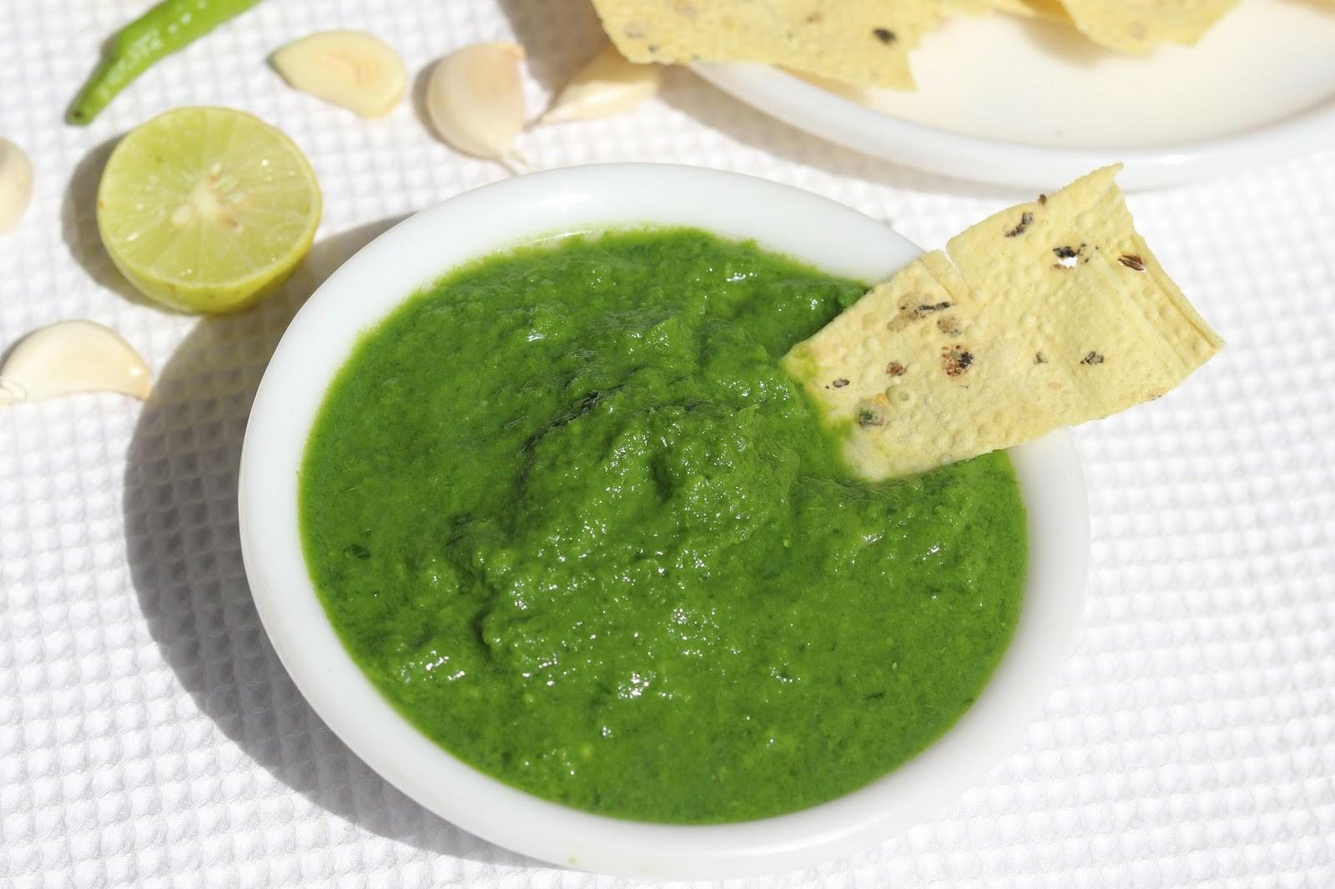GreenChutney: (303, 226, 1025, 817)
